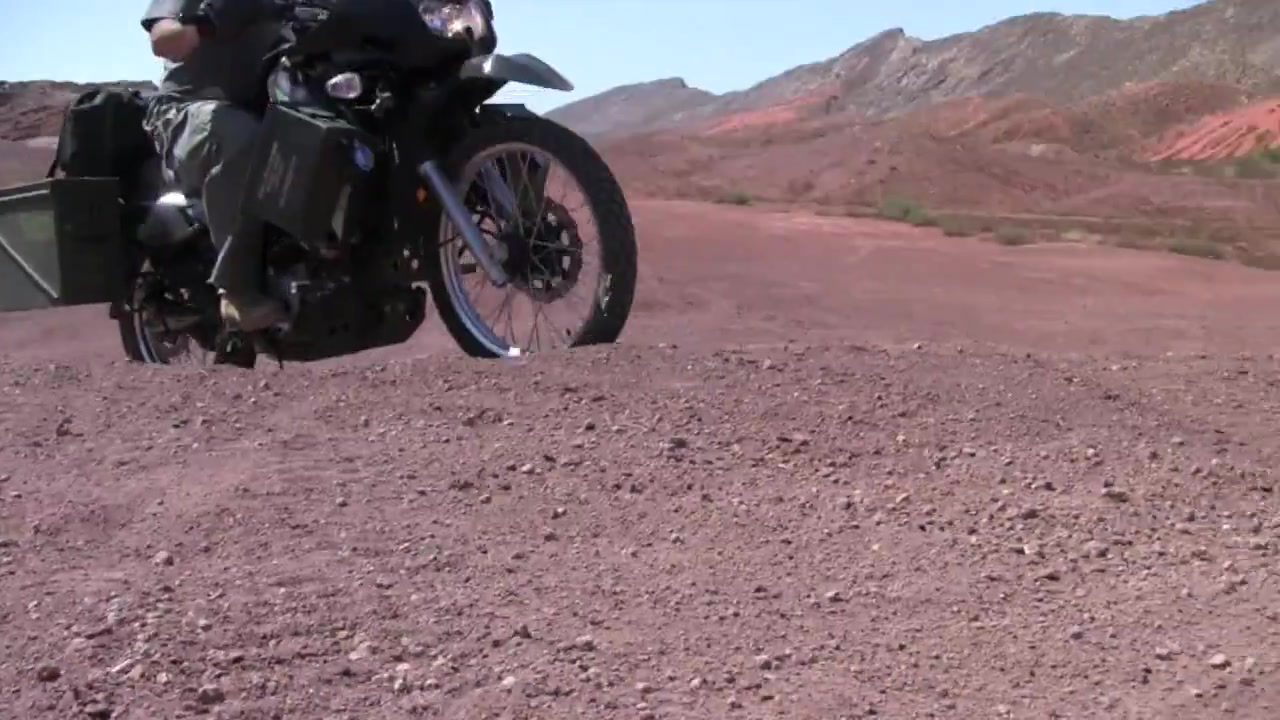motorbike: (110, 1, 644, 373)
